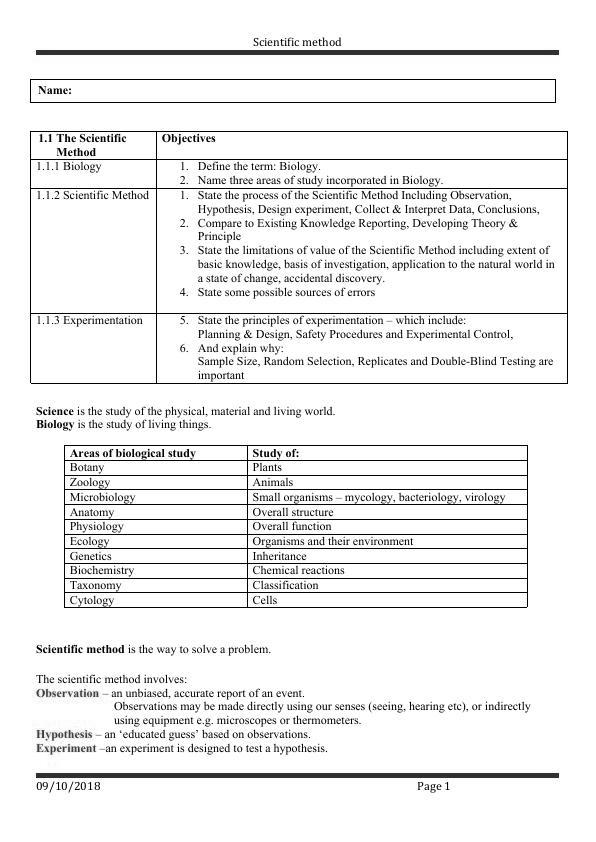input: (81, 89, 144, 107)
table: (25, 126, 572, 393), (60, 441, 535, 616)
text: (33, 671, 537, 759), (30, 400, 340, 436), (34, 641, 273, 660), (35, 81, 74, 97)
